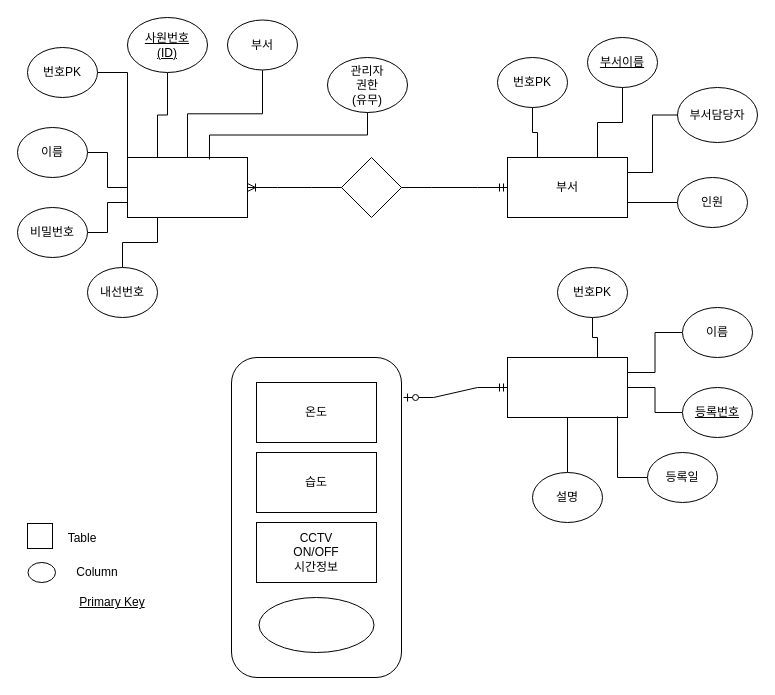
This 775x695 diagram has some shape labels left out. Here are the shapes that lost their labels. From the top down, the centre of each, then its label:
point 187,187: 사용자
point 371,187: 소속
point 567,387: 설비
point 316,624: CCTV
